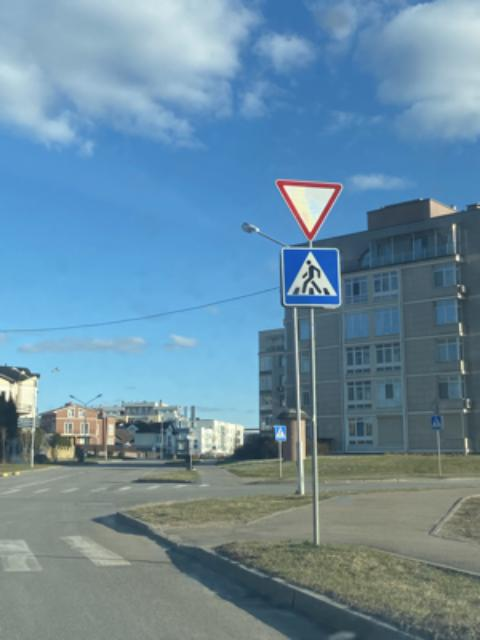crosswalk-sign: (279, 246, 343, 308)
